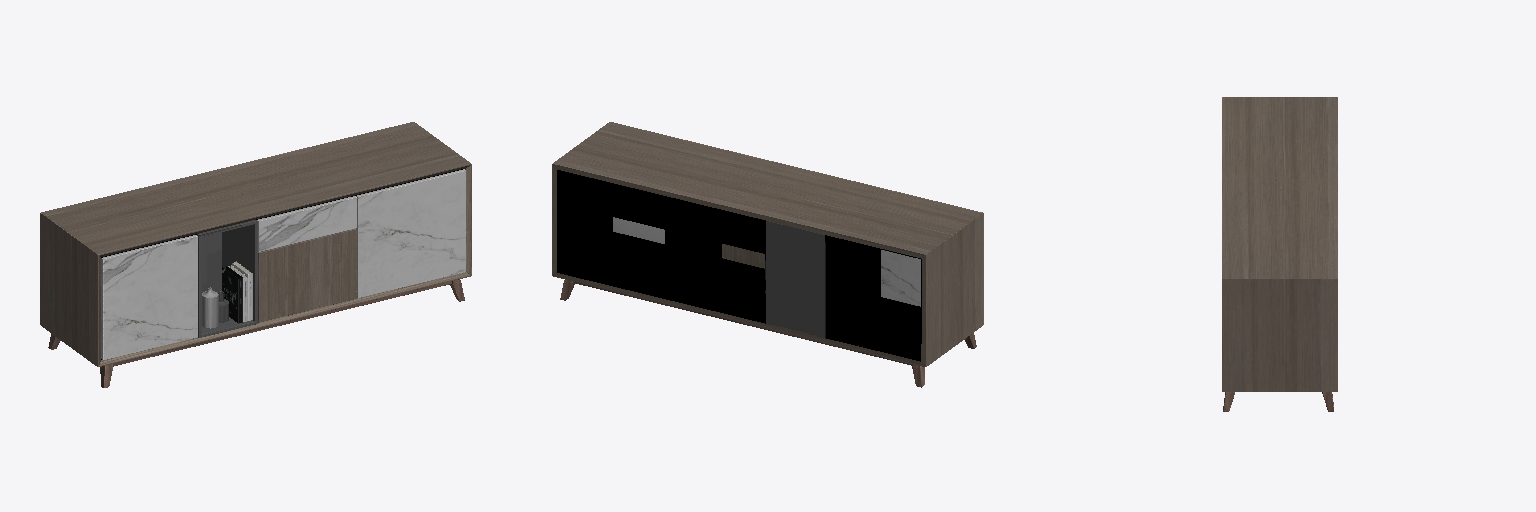
3 renders of one model, left to right at view 1: azimuth 30°, elevation 25°; view 2: azimuth 150°, elevation 25°; view 3: azimuth 270°, elevation 25°, orthographic.
Visible parts, largest first — view 1: solid_004, solid_005, solid_001, solid_002, solid_009, solid_008; view 2: solid_004, solid_003, solid_001, solid_005, solid_002; view 3: solid_004.
Boxes of the visible parts, box(x1,y1,x2,y2) form: solid_004: box(40, 122, 471, 366); solid_005: box(101, 169, 465, 359); solid_001: box(197, 220, 257, 337); solid_002: box(48, 279, 464, 387); solid_009: box(222, 266, 242, 323); solid_008: box(202, 287, 218, 328); solid_004: box(552, 122, 983, 366); solid_003: box(557, 170, 921, 361); solid_001: box(766, 221, 824, 337); solid_005: box(613, 217, 920, 306); solid_002: box(560, 280, 976, 387); solid_004: box(1222, 97, 1337, 391).
Size of the model in its own units: 2 by 0.6934 by 0.5346.
1 materials, 1 textured.